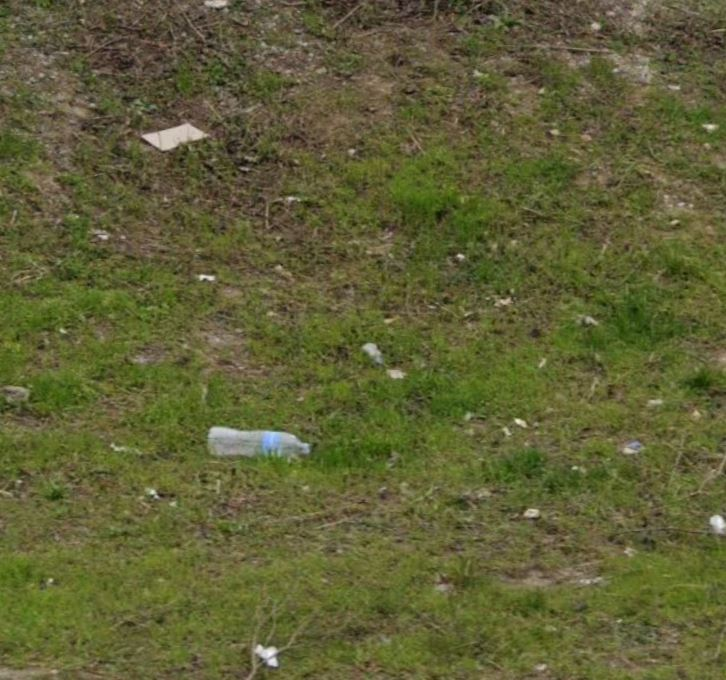trash: (196, 415, 322, 475), (135, 112, 213, 159), (246, 635, 288, 667)
